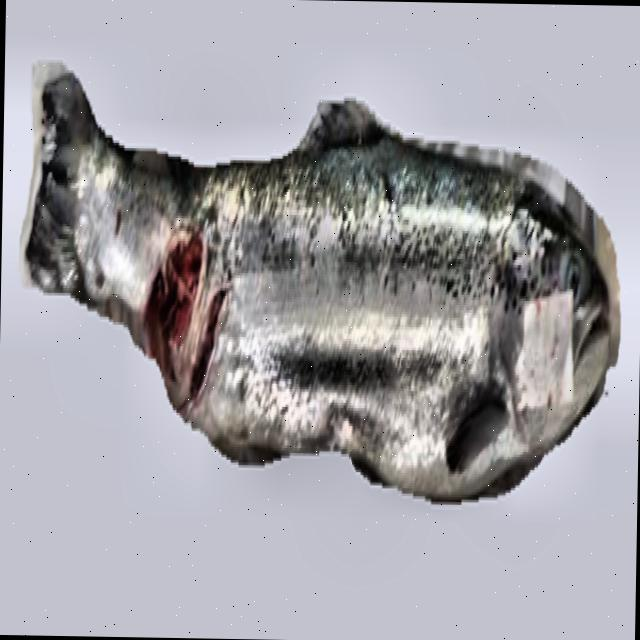mild_red: (75, 103, 514, 494)
wound: (144, 236, 204, 376), (189, 293, 224, 397)
